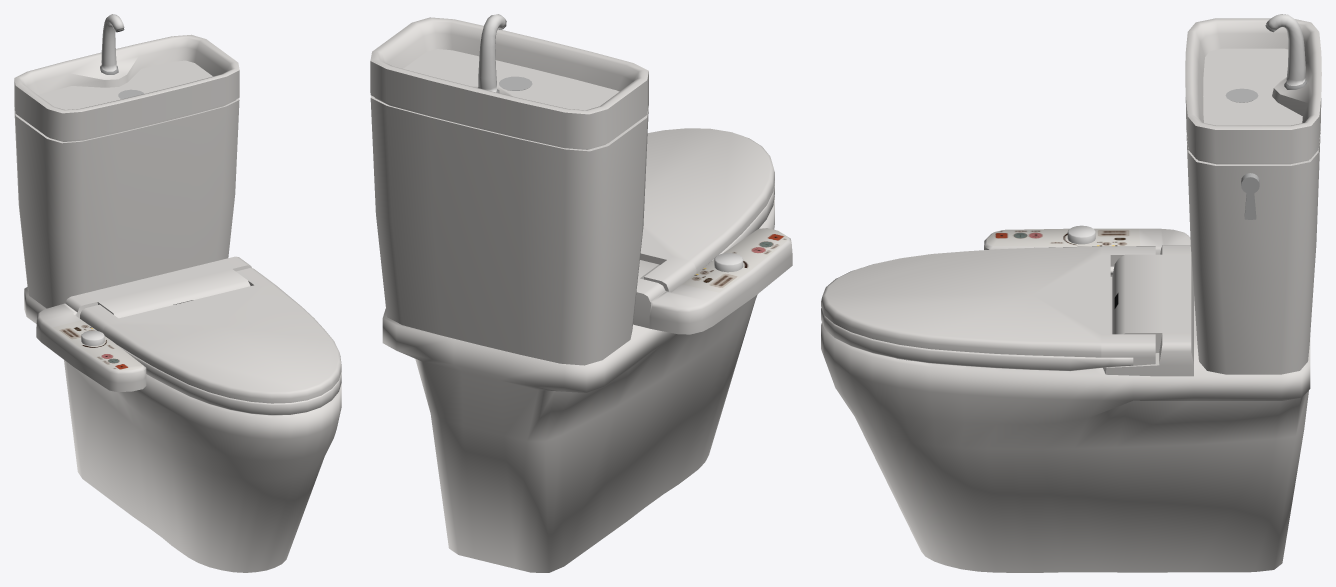
The model's file is scopia-japanese-toilet-quality-v2.glb.
3 views of the same model, side by side, from view 1: azimuth 30°, elevation 25°; view 2: azimuth 150°, elevation 25°; view 3: azimuth 270°, elevation 25° (orthographic). The views are drawn at different scales.
Parts seen in each view (by area): view 1: WaterContainer, Seat, sweethome3d_opening_on_hinge_1_Cover, BaseControlCommand, ArmControlCommand, sweethome3d_opening_on_hinge_2_SeatProtection, Tap; view 2: WaterContainer, Seat, sweethome3d_opening_on_hinge_1_Cover, ArmControlCommand, Tap, BaseControlCommand; view 3: Seat, WaterContainer, sweethome3d_opening_on_hinge_1_Cover, BaseControlCommand, sweethome3d_opening_on_hinge_2_SeatProtection, ArmControlCommand, Tap.
Boxes of the visible parts, left/top/right/bottom form: WaterContainer: left=14, top=34, right=239, bottom=308; Seat: left=24, top=287, right=341, bottom=572; sweethome3d_opening_on_hinge_1_Cover: left=80, top=268, right=341, bottom=403; BaseControlCommand: left=65, top=256, right=251, bottom=318; ArmControlCommand: left=36, top=303, right=146, bottom=392; sweethome3d_opening_on_hinge_2_SeatProtection: left=118, top=345, right=341, bottom=415; Tap: left=100, top=14, right=124, bottom=74; WaterContainer: left=370, top=17, right=648, bottom=365; Seat: left=382, top=197, right=774, bottom=572; sweethome3d_opening_on_hinge_1_Cover: left=640, top=128, right=774, bottom=292; ArmControlCommand: left=649, top=228, right=792, bottom=334; Tap: left=478, top=14, right=506, bottom=92; BaseControlCommand: left=633, top=260, right=665, bottom=328; Seat: left=821, top=296, right=1310, bottom=572; WaterContainer: left=1185, top=18, right=1321, bottom=374; sweethome3d_opening_on_hinge_1_Cover: left=821, top=246, right=1155, bottom=365; BaseControlCommand: left=1103, top=245, right=1193, bottom=376; sweethome3d_opening_on_hinge_2_SeatProtection: left=821, top=266, right=1133, bottom=371; ArmControlCommand: left=984, top=228, right=1190, bottom=254; Tap: left=1265, top=14, right=1306, bottom=89.
Bounding box in the file's own units: 0.527 × 0.98 × 0.836.
17 materials, 1 textured.
